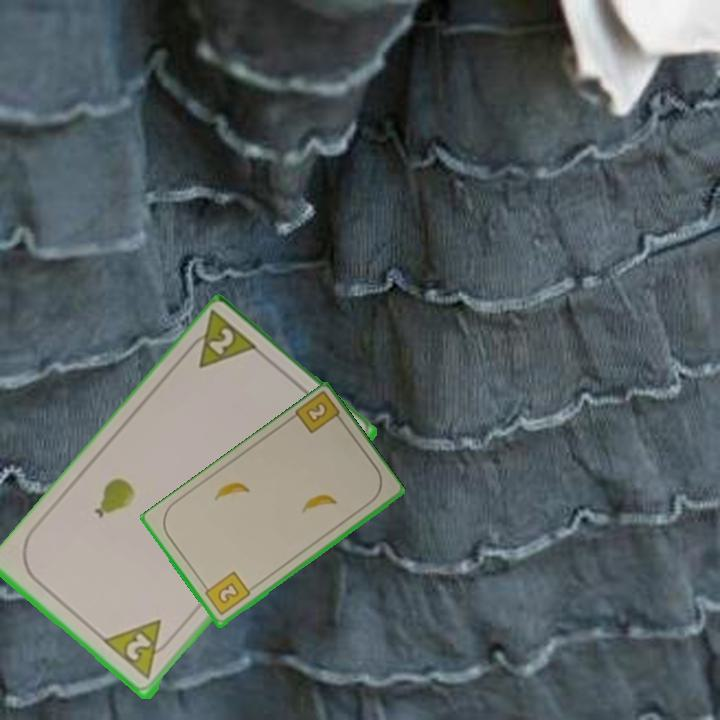2b: (199, 568, 253, 618), (291, 390, 348, 437)
2p: (179, 308, 263, 373), (101, 616, 177, 683)
